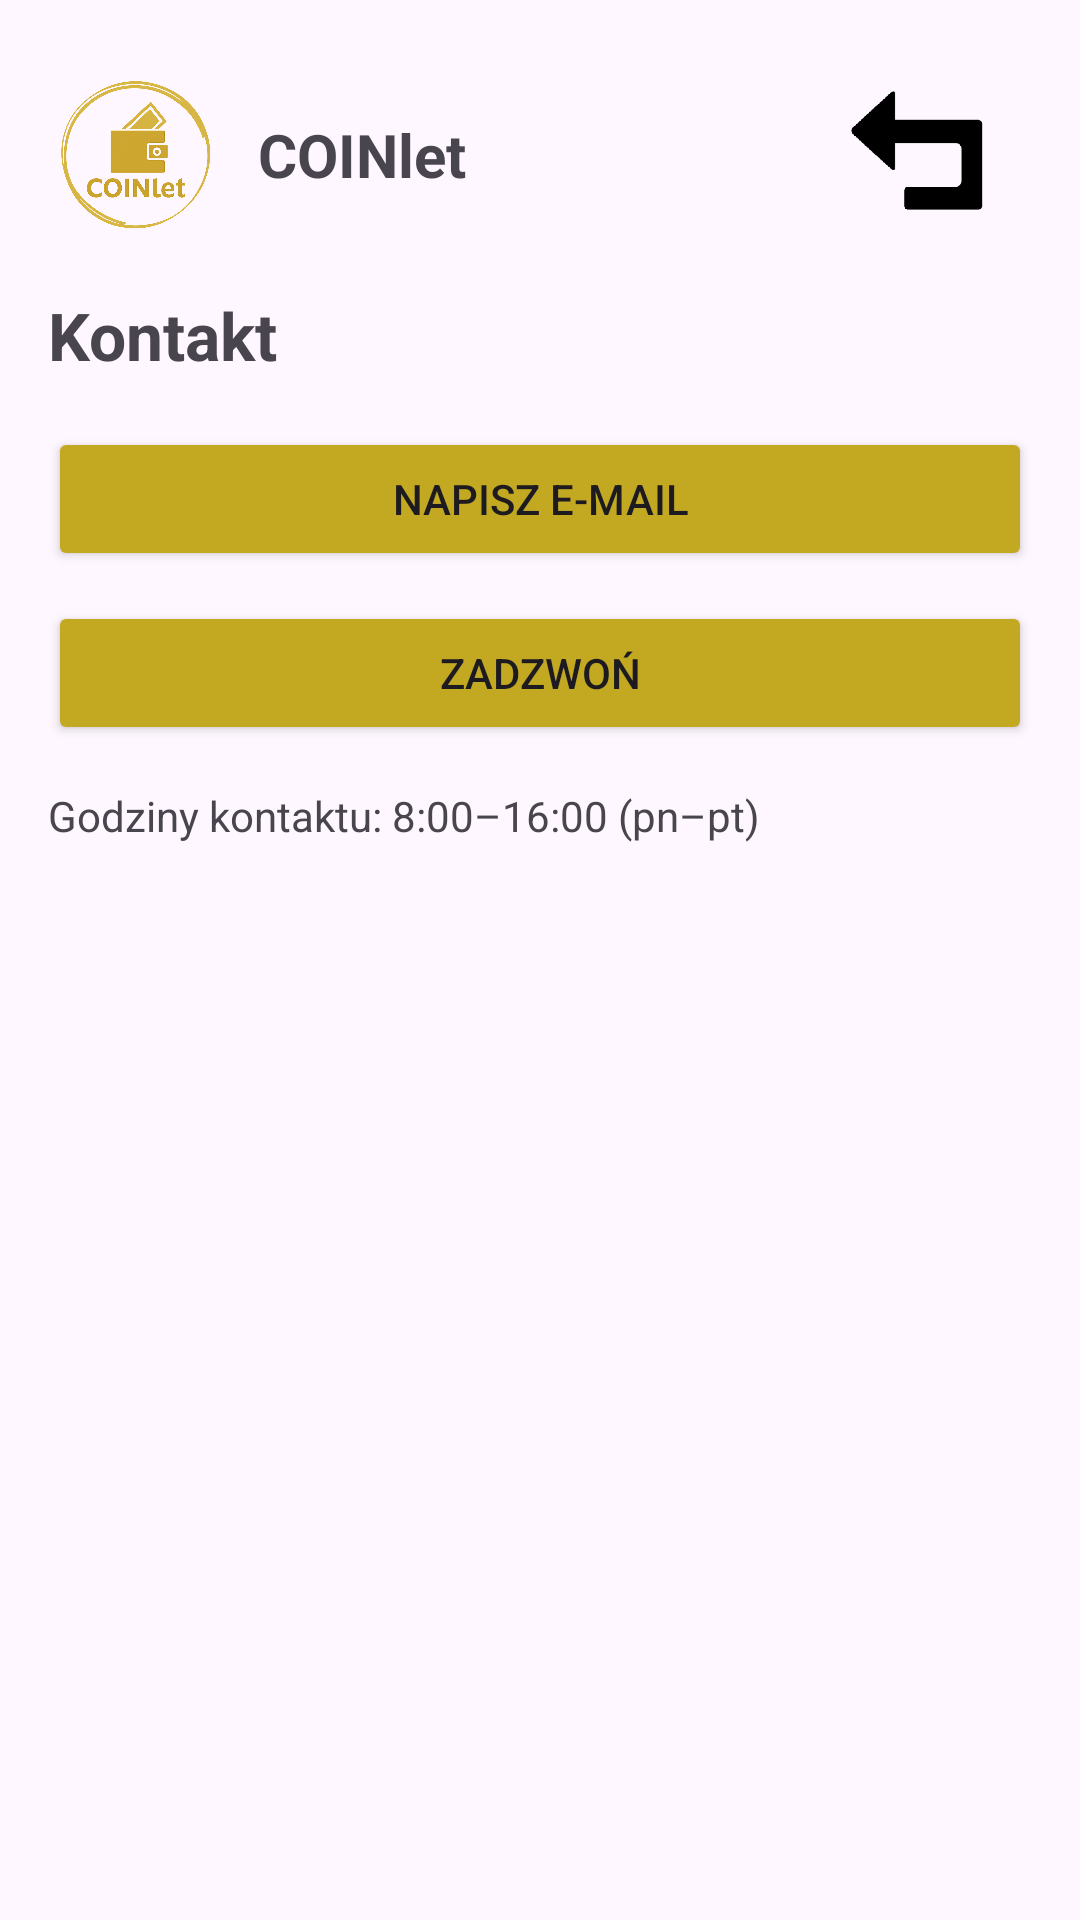

Where to tap for icons on this 1080 x 1920 app screen, as [x,y]:
back: [917,150]
